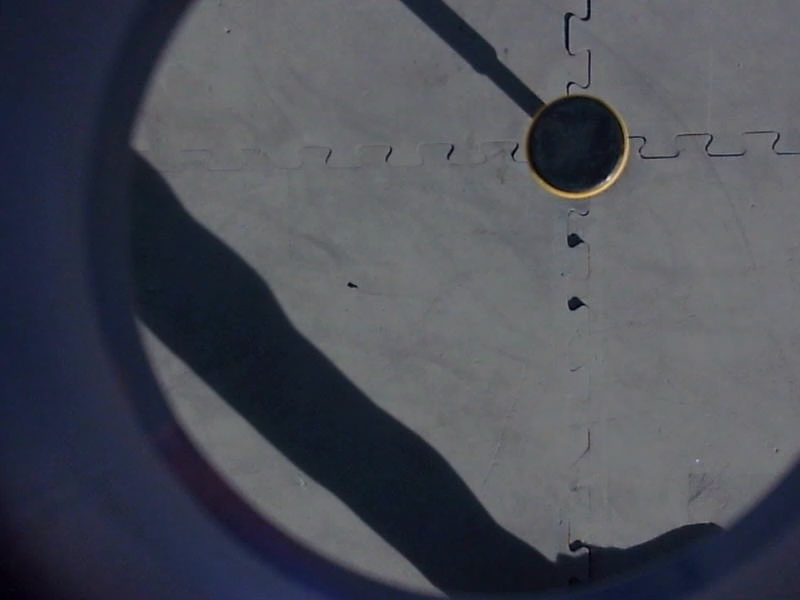tip: (515, 85, 636, 210)
